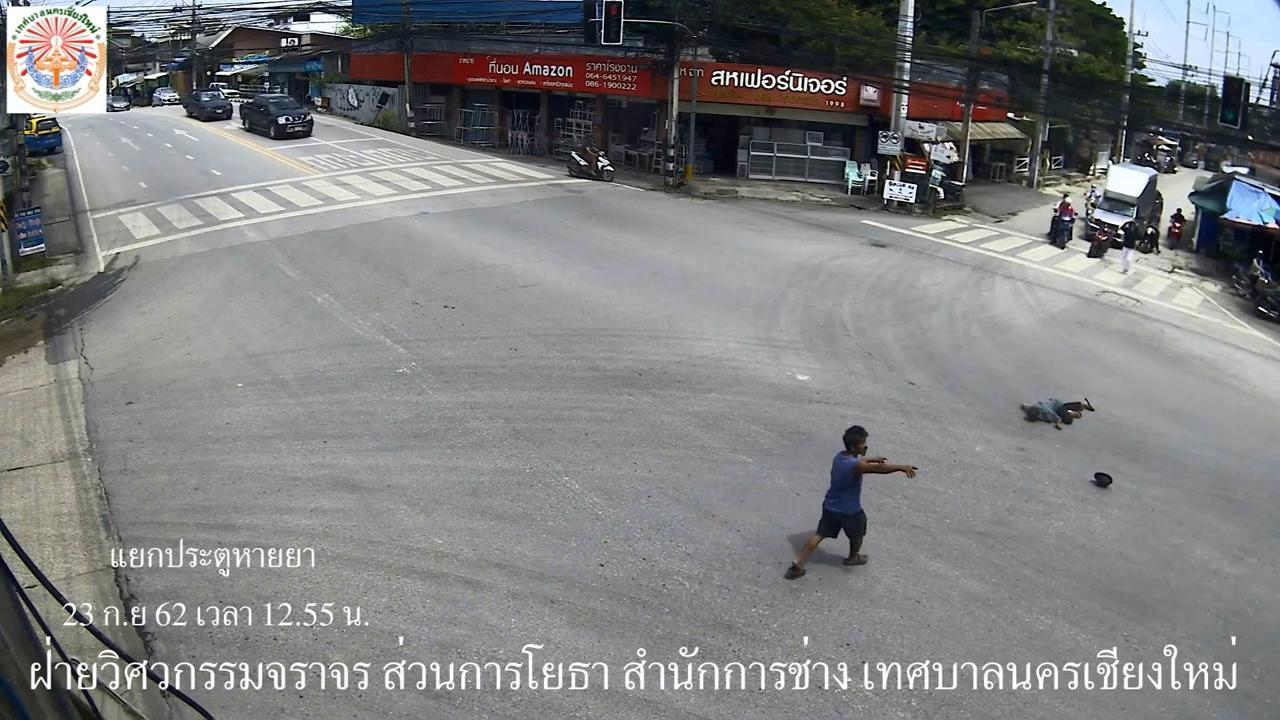accident: (1016, 391, 1094, 435)
